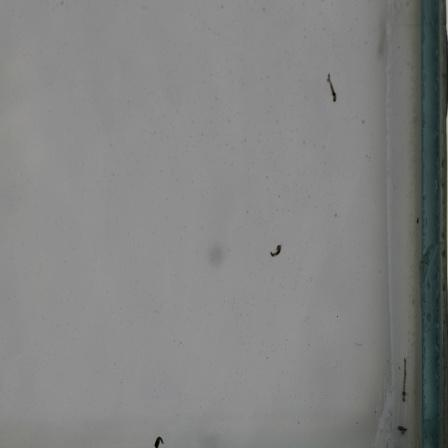Jentik-Nyamuk: (322, 71, 342, 107), (398, 354, 410, 406), (266, 241, 284, 263), (148, 431, 167, 448), (393, 422, 410, 437)
